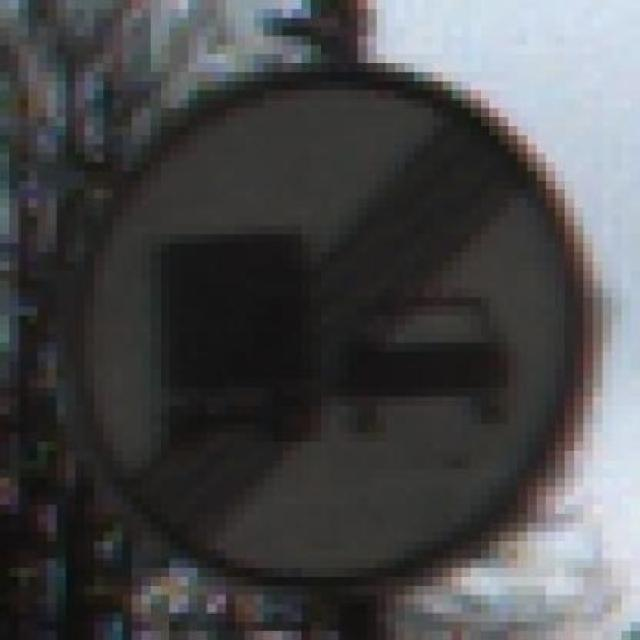Overtaking by trucks is prohibited: (19, 45, 630, 604)
